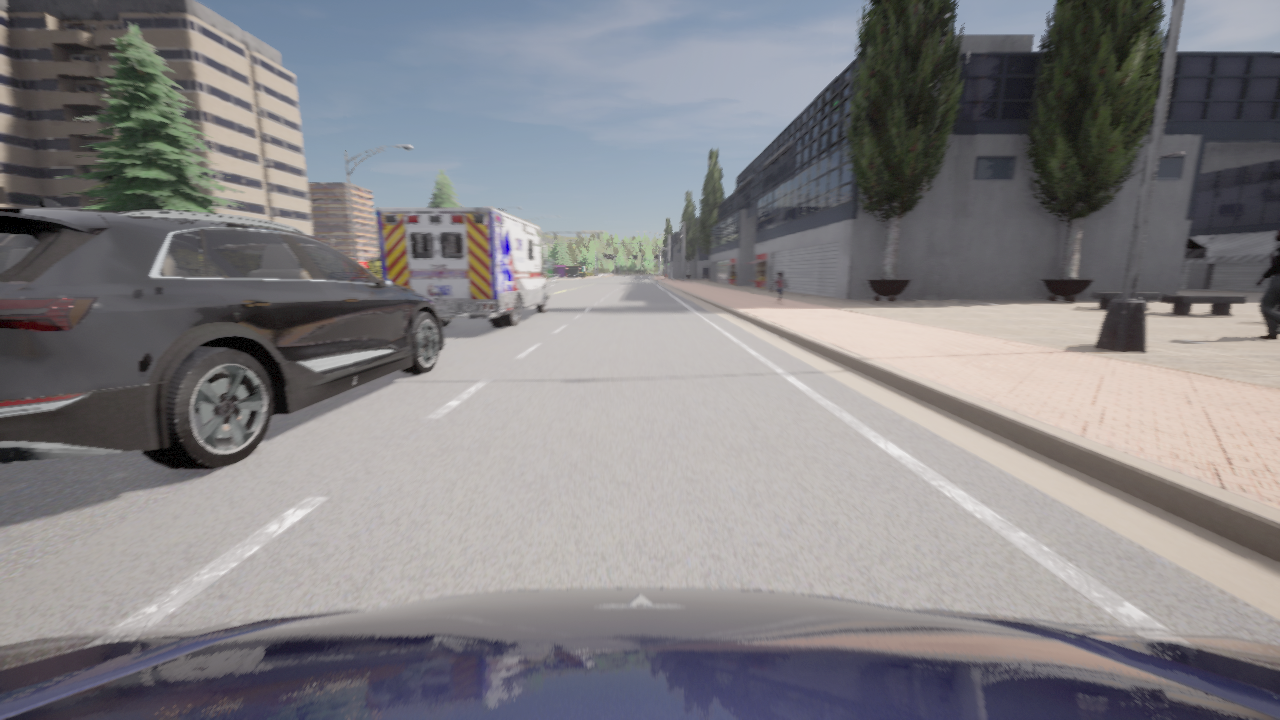cyclist: (0, 588, 1279, 719), (0, 198, 444, 469), (376, 208, 554, 326)
pedestrian: (1256, 230, 1279, 339), (770, 272, 787, 304)
